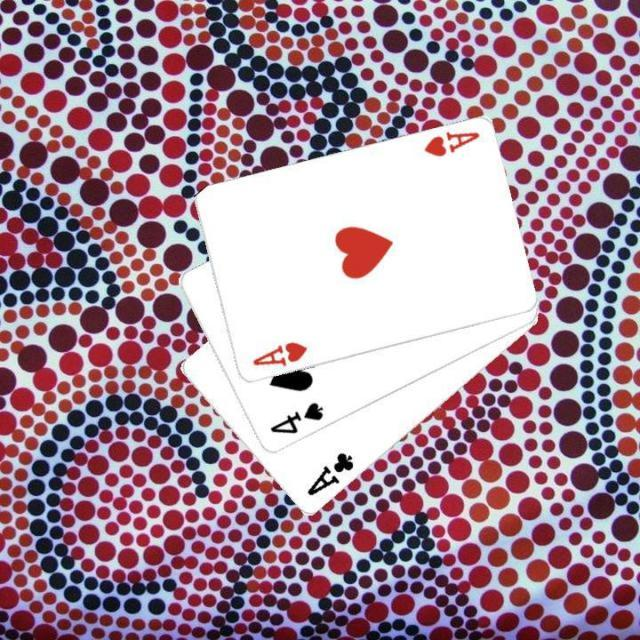4S: (266, 398, 326, 436)
AC: (302, 449, 356, 499)
AH: (419, 128, 481, 159), (248, 338, 309, 369)
